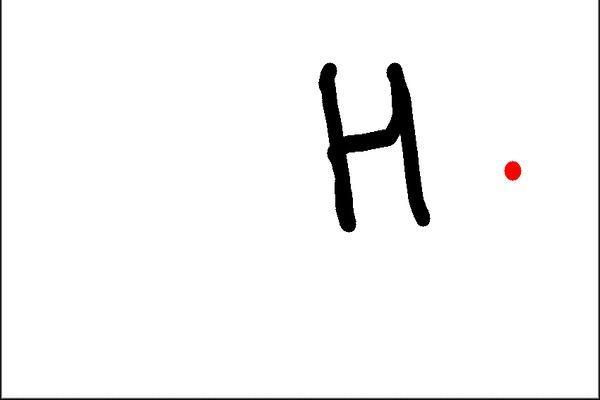H: (310, 57, 437, 239)
